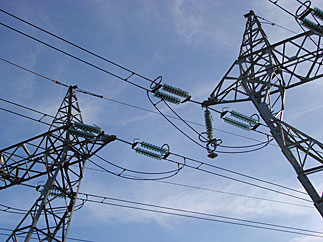isolator: (152, 82, 189, 105), (222, 110, 256, 131), (134, 140, 167, 161), (300, 7, 323, 36), (67, 121, 101, 140), (203, 109, 214, 140), (48, 185, 66, 200)
